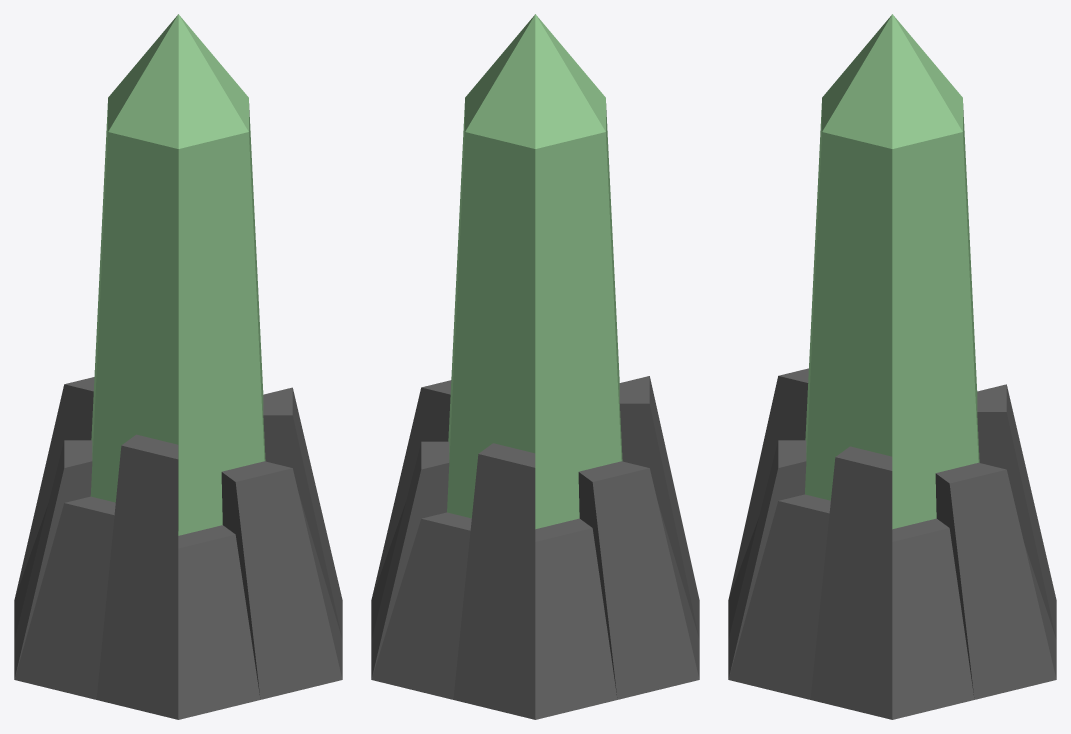
The model's file is crystal.fbx.
The picture shows the model from 3 angles, left to right: view 1: azimuth 30°, elevation 25°; view 2: azimuth 150°, elevation 25°; view 3: azimuth 270°, elevation 25°; orthographic projection.
Visible parts, largest first — view 1: crystal; view 2: crystal; view 3: crystal.
Part boxes in pixels (x1,y1,x2,y2): crystal: (14, 14, 342, 719); crystal: (371, 14, 699, 719); crystal: (728, 14, 1056, 719).
Bounding box in the file's own units: 2.24 × 4.09 × 1.94.
